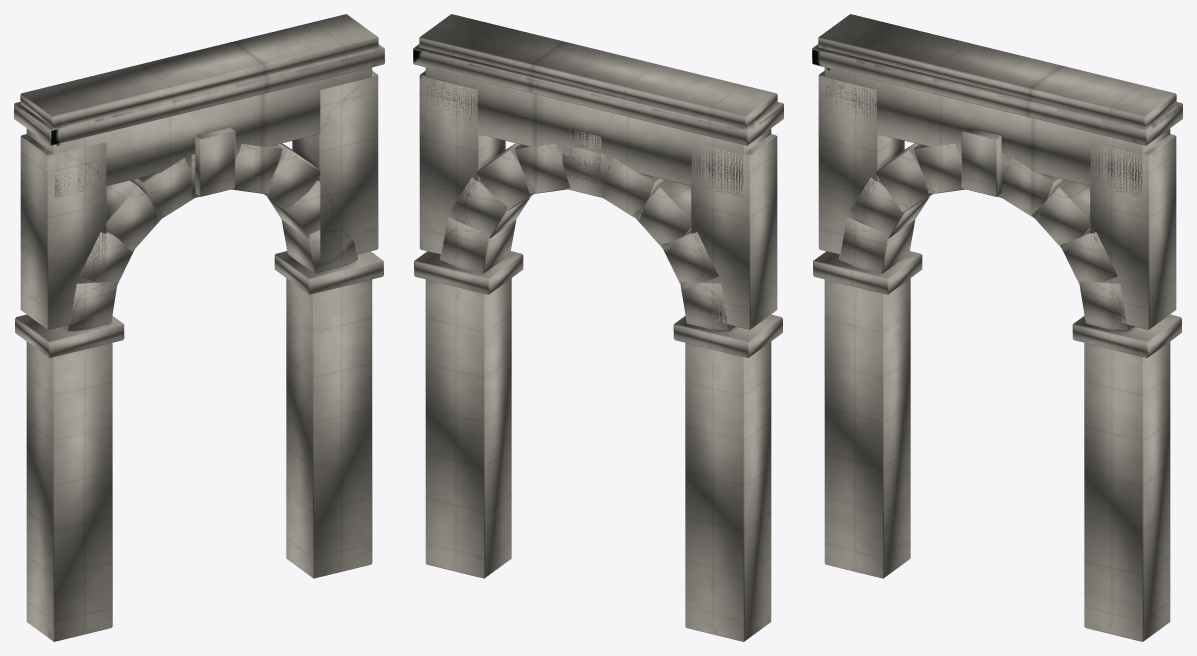
File: Arcada.fbx
The picture shows the model from 3 angles, left to right: view 1: azimuth 30°, elevation 25°; view 2: azimuth 150°, elevation 25°; view 3: azimuth 330°, elevation 25°; orthographic projection.
Parts seen in each view (by area): view 1: Arcada; view 2: Arcada; view 3: Arcada.
Part boxes in pixels (x1=…): Arcada: x1=14, y1=14, x2=384, y2=641; Arcada: x1=413, y1=14, x2=783, y2=641; Arcada: x1=812, y1=14, x2=1182, y2=641.
Bounding box in the file's own units: 8.4 × 12.65 × 1.6.
